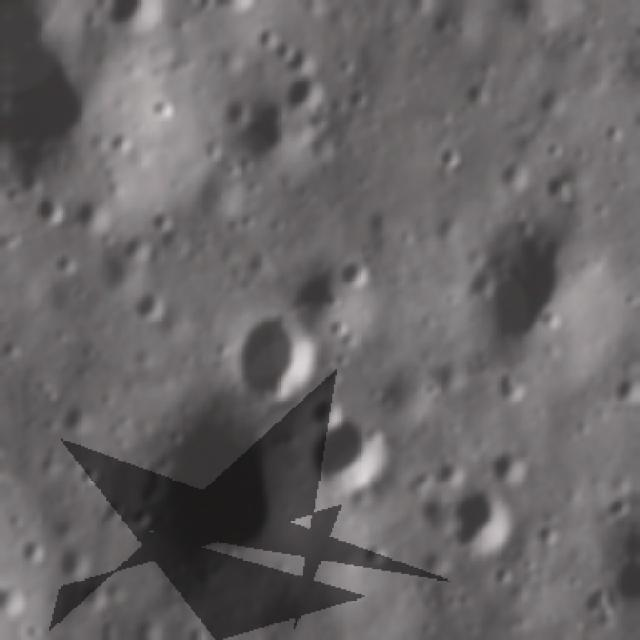crater: (229, 316, 322, 395), (319, 419, 392, 496), (455, 492, 520, 554), (284, 78, 327, 109), (493, 458, 535, 488), (582, 583, 612, 622), (408, 467, 437, 502), (459, 82, 495, 109), (37, 195, 66, 228), (252, 27, 286, 55), (535, 88, 570, 114), (0, 587, 28, 618), (137, 294, 166, 323), (437, 142, 463, 172), (547, 178, 573, 208), (604, 496, 631, 524), (539, 521, 567, 548), (109, 132, 140, 156), (56, 247, 82, 275), (500, 374, 525, 403), (509, 161, 533, 190), (343, 265, 372, 289), (126, 507, 159, 528), (77, 462, 103, 487), (153, 93, 176, 121), (364, 541, 388, 567), (538, 310, 565, 332), (604, 120, 628, 142), (22, 538, 42, 564), (493, 567, 518, 584), (548, 135, 563, 157)
